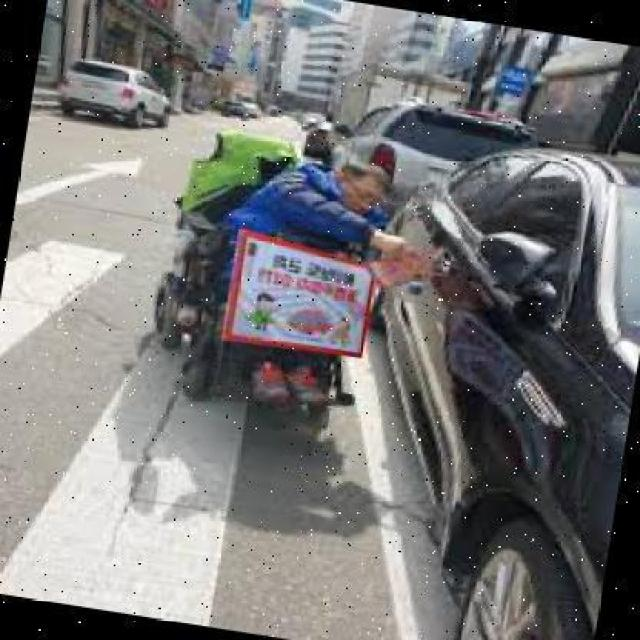Person: (143, 124, 420, 427)
